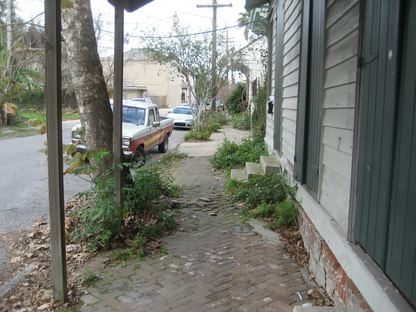car: (166, 106, 195, 130), (123, 99, 152, 113)
truck: (70, 98, 173, 166)
